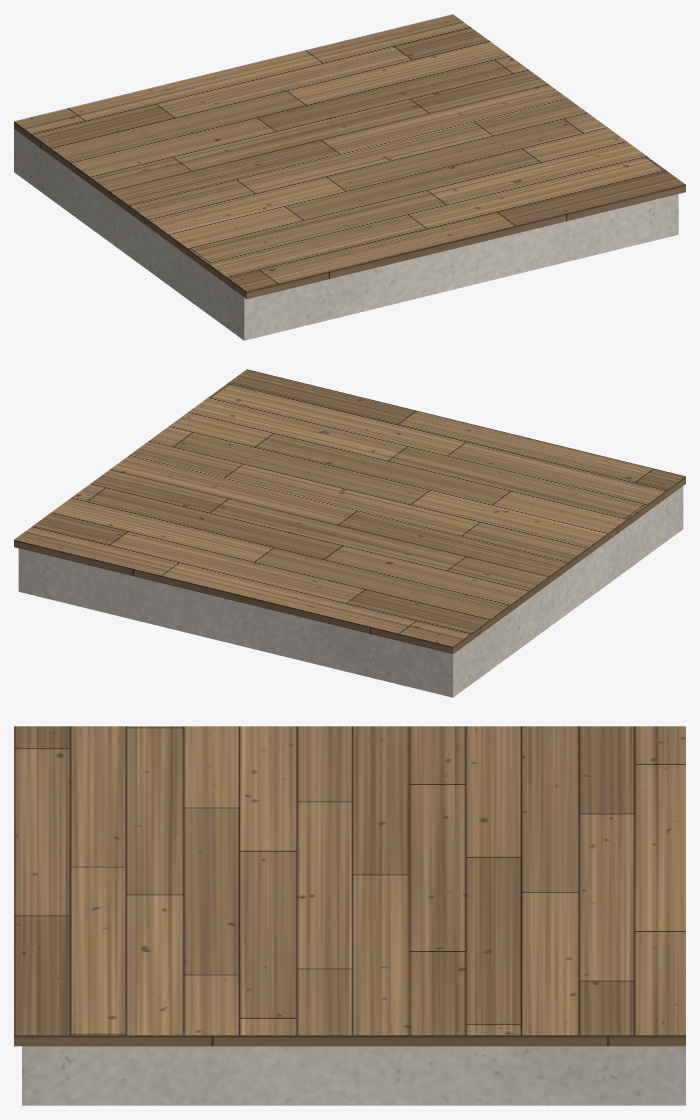
Rendered from floor_wood_c_e15_0_30_0.glb.
3 views of the same model, one above another, from view 1: azimuth 30°, elevation 25°; view 2: azimuth 150°, elevation 25°; view 3: azimuth 270°, elevation 25° (orthographic). The views are drawn at different scales.
Parts seen in each view (by area): view 1: floor_wood_c_e15_0_30_0_attic, floor_wood_c_e15_0_30_0_plaster; view 2: floor_wood_c_e15_0_30_0_attic, floor_wood_c_e15_0_30_0_plaster; view 3: floor_wood_c_e15_0_30_0_attic, floor_wood_c_e15_0_30_0_plaster.
Part boxes in pixels (bbox=[...]): floor_wood_c_e15_0_30_0_attic: bbox=[14, 14, 685, 299]; floor_wood_c_e15_0_30_0_plaster: bbox=[14, 129, 678, 340]; floor_wood_c_e15_0_30_0_attic: bbox=[14, 369, 685, 654]; floor_wood_c_e15_0_30_0_plaster: bbox=[18, 486, 683, 697]; floor_wood_c_e15_0_30_0_attic: bbox=[14, 726, 685, 1046]; floor_wood_c_e15_0_30_0_plaster: bbox=[22, 1046, 685, 1105].
Bounding box in the file's own units: 1.85 × 0.205 × 1.7.
Materials: 2 (2 with a texture image).
